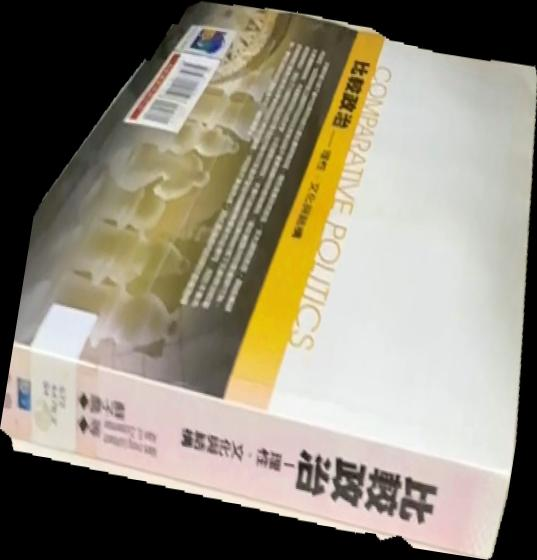flat: (1, 1, 537, 560)
